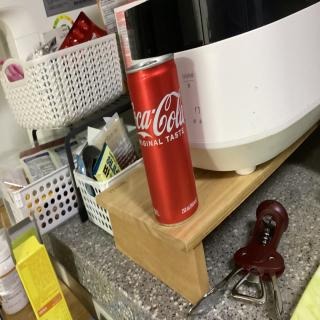cocacola: (123, 46, 205, 231)
